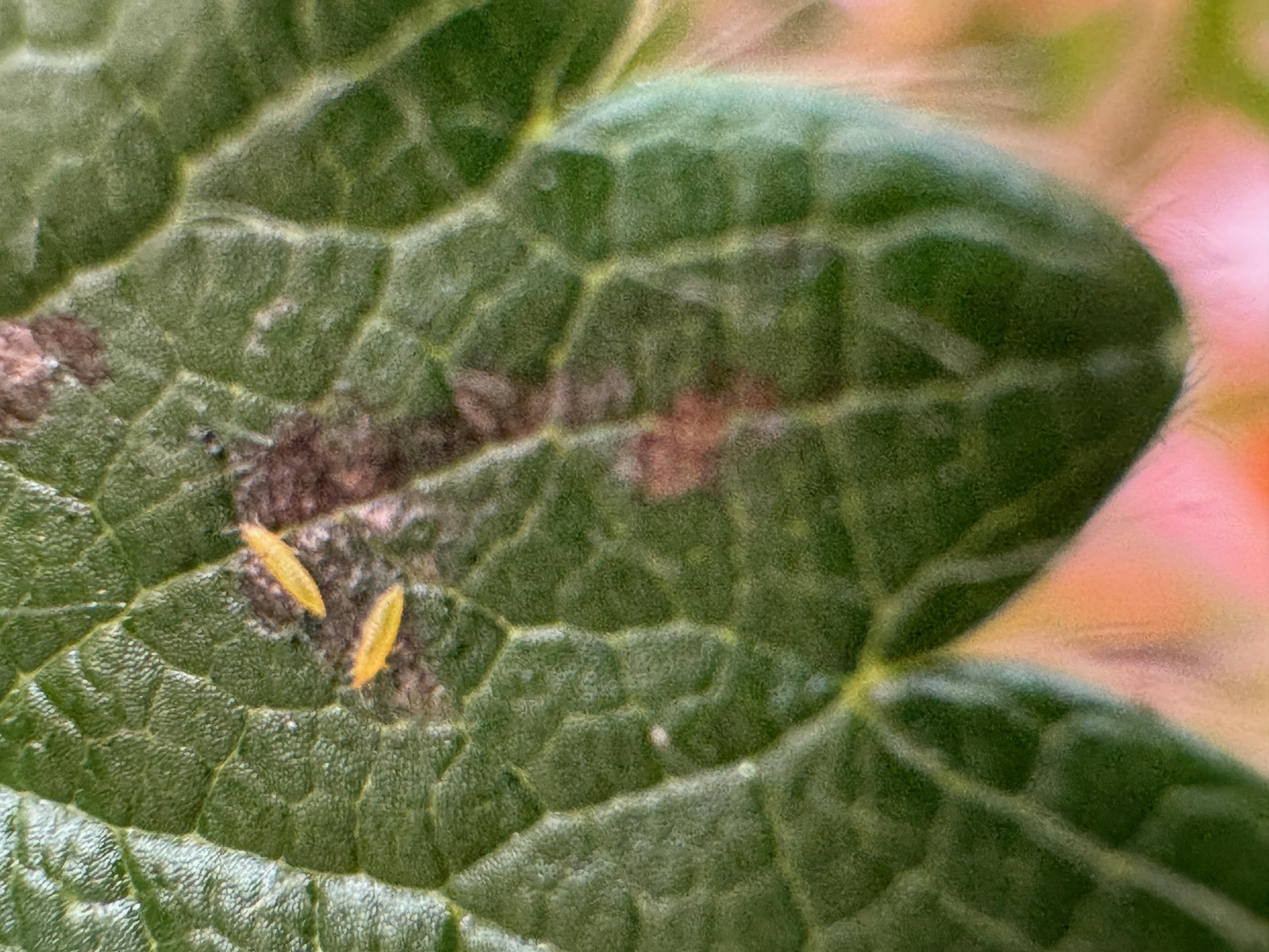tiny_pests: (203, 480, 359, 638), (327, 548, 430, 724)
